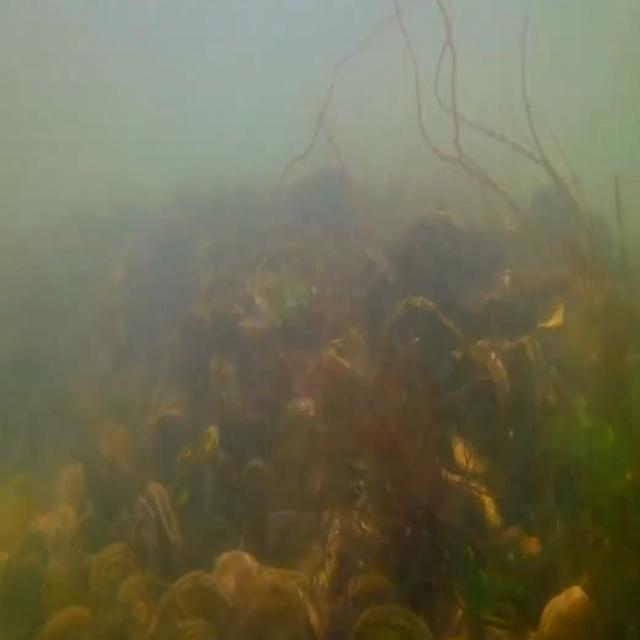Oyster-Closed: (538, 581, 601, 640), (170, 425, 220, 471)
Oyster-Indeterminate: (216, 546, 314, 640), (85, 541, 154, 640), (383, 295, 465, 371), (151, 569, 235, 640), (474, 334, 549, 410), (448, 348, 508, 423), (437, 465, 503, 526), (350, 506, 400, 550), (451, 433, 502, 472)
Oyster-Open: (130, 483, 186, 602), (316, 506, 342, 608)
